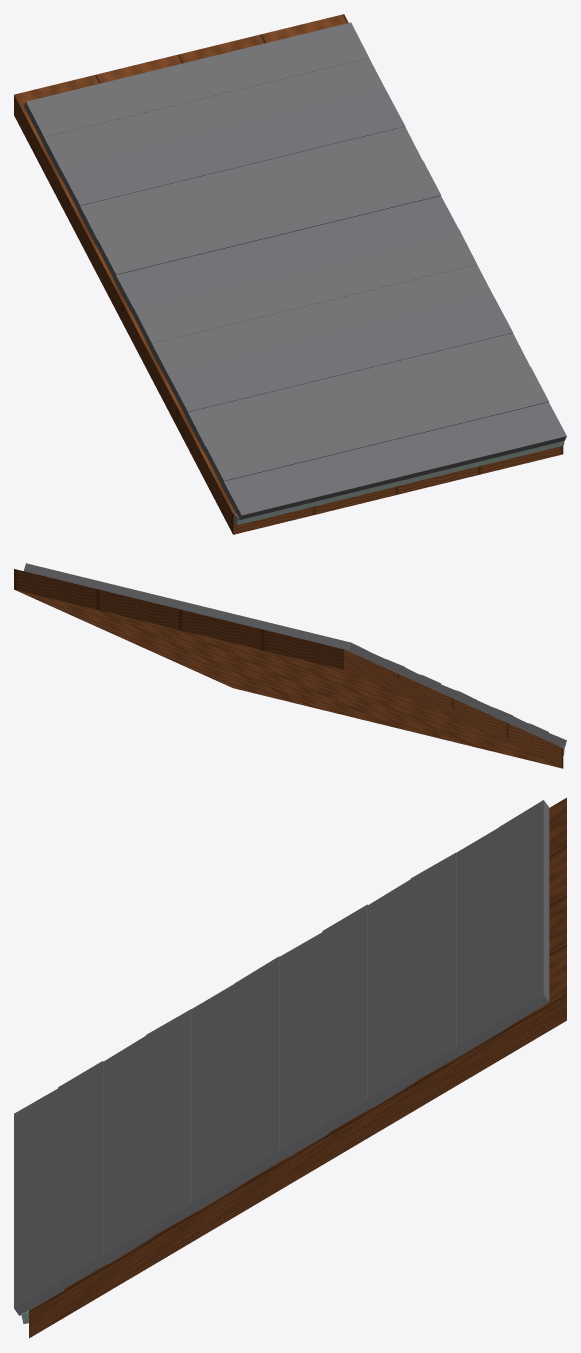
Rendered from halloween-slasher-street-roof-slope-panel-65896f95__27269.glb.
3 renders of one model, top to bottom at view 1: azimuth 30°, elevation 25°; view 2: azimuth 150°, elevation 25°; view 3: azimuth 270°, elevation 25°, orthographic. The views are drawn at different scales.
Visible parts, largest first — view 1: roof-slope-panel; view 2: roof-slope-panel; view 3: roof-slope-panel.
Part boxes in pixels (x1,y1,x2,y2): roof-slope-panel: [14, 14, 566, 534]; roof-slope-panel: [14, 563, 566, 768]; roof-slope-panel: [14, 797, 566, 1338].
Size of the model in its own units: 4 by 3.24 by 4.73.
Materials: 3 (1 with a texture image).
